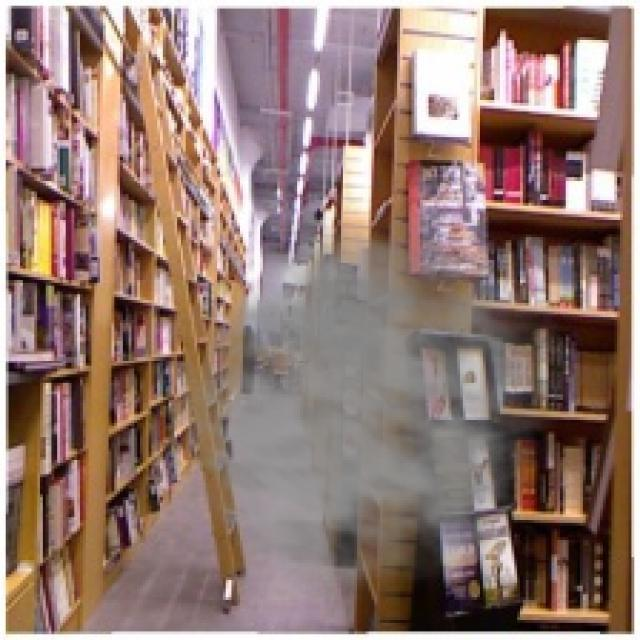Smoke: (171, 191, 583, 603)
